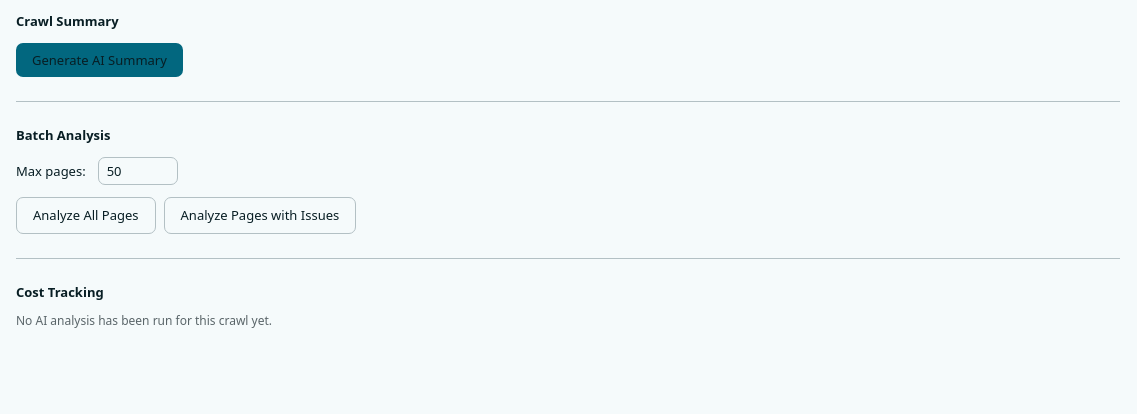
AiInsightsTab › dismisses estimate on cancel
Click the button "Analyze All Pages": (86, 216) [16,197,156,234]
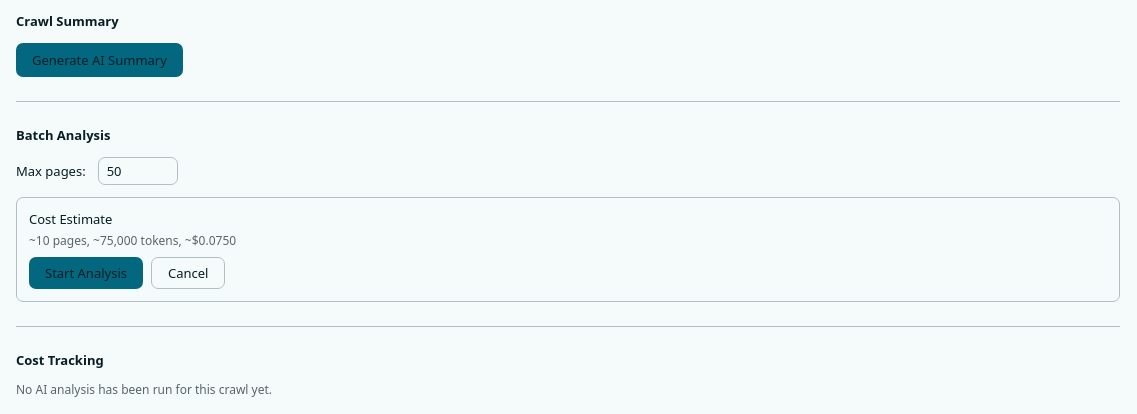
Expected: the button "Cancel" is shown
Click the button "Cancel": (188, 273) [151,257,226,289]
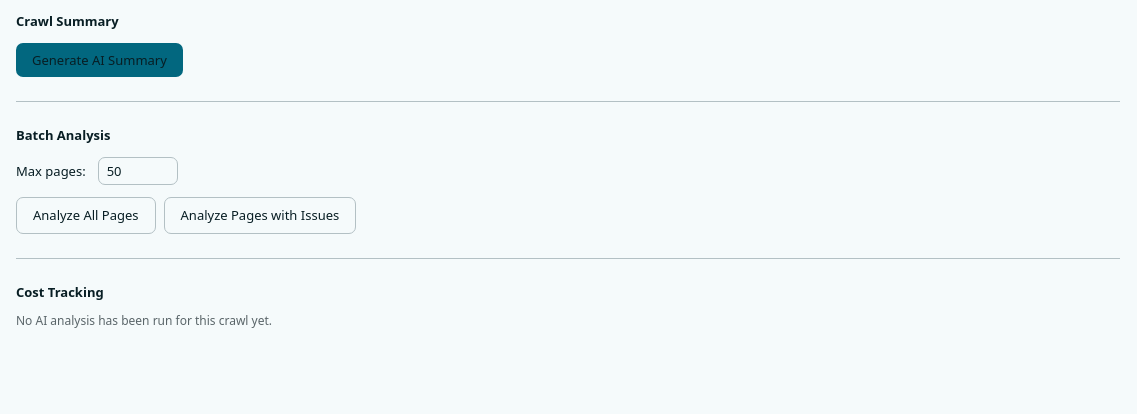
Expected: the text "Cost Estimate" is gone
Expected: the button "Analyze All Pages" is shown, [16,197,156,234]
